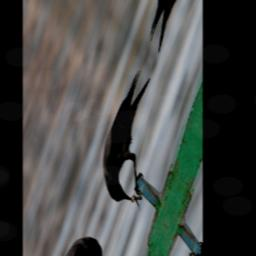Crow: (93, 59, 172, 220)
